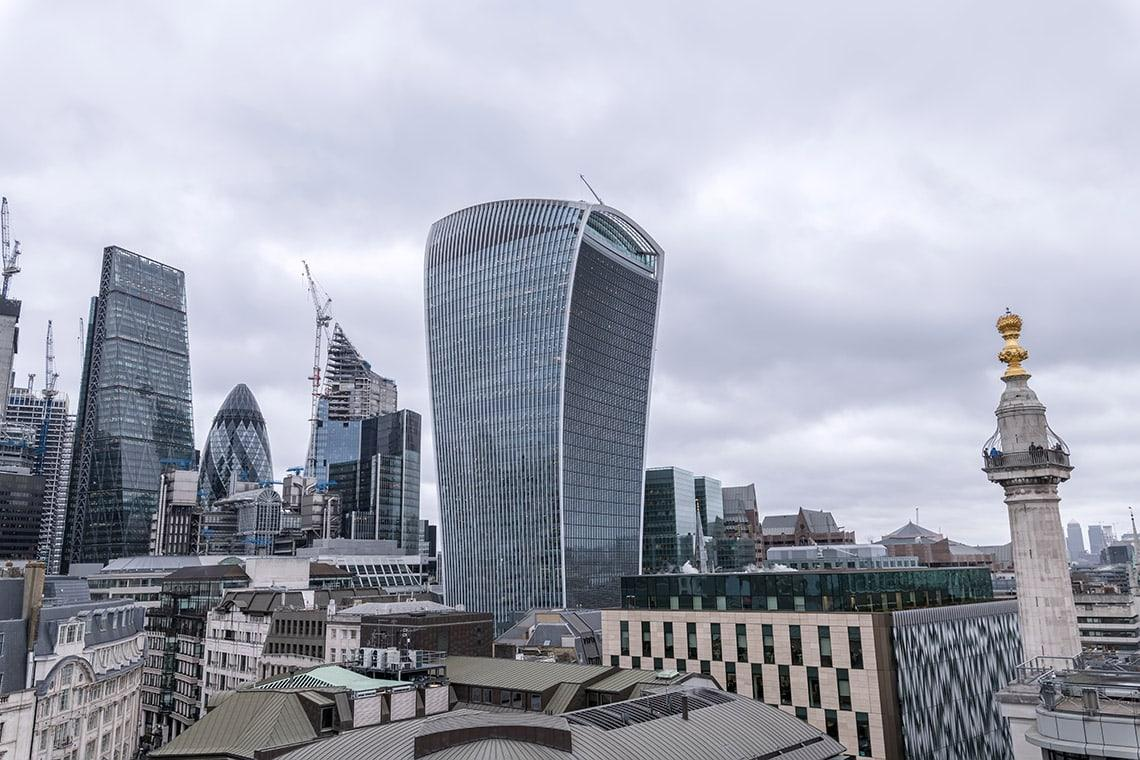Walkie talkie: (416, 191, 673, 607)
